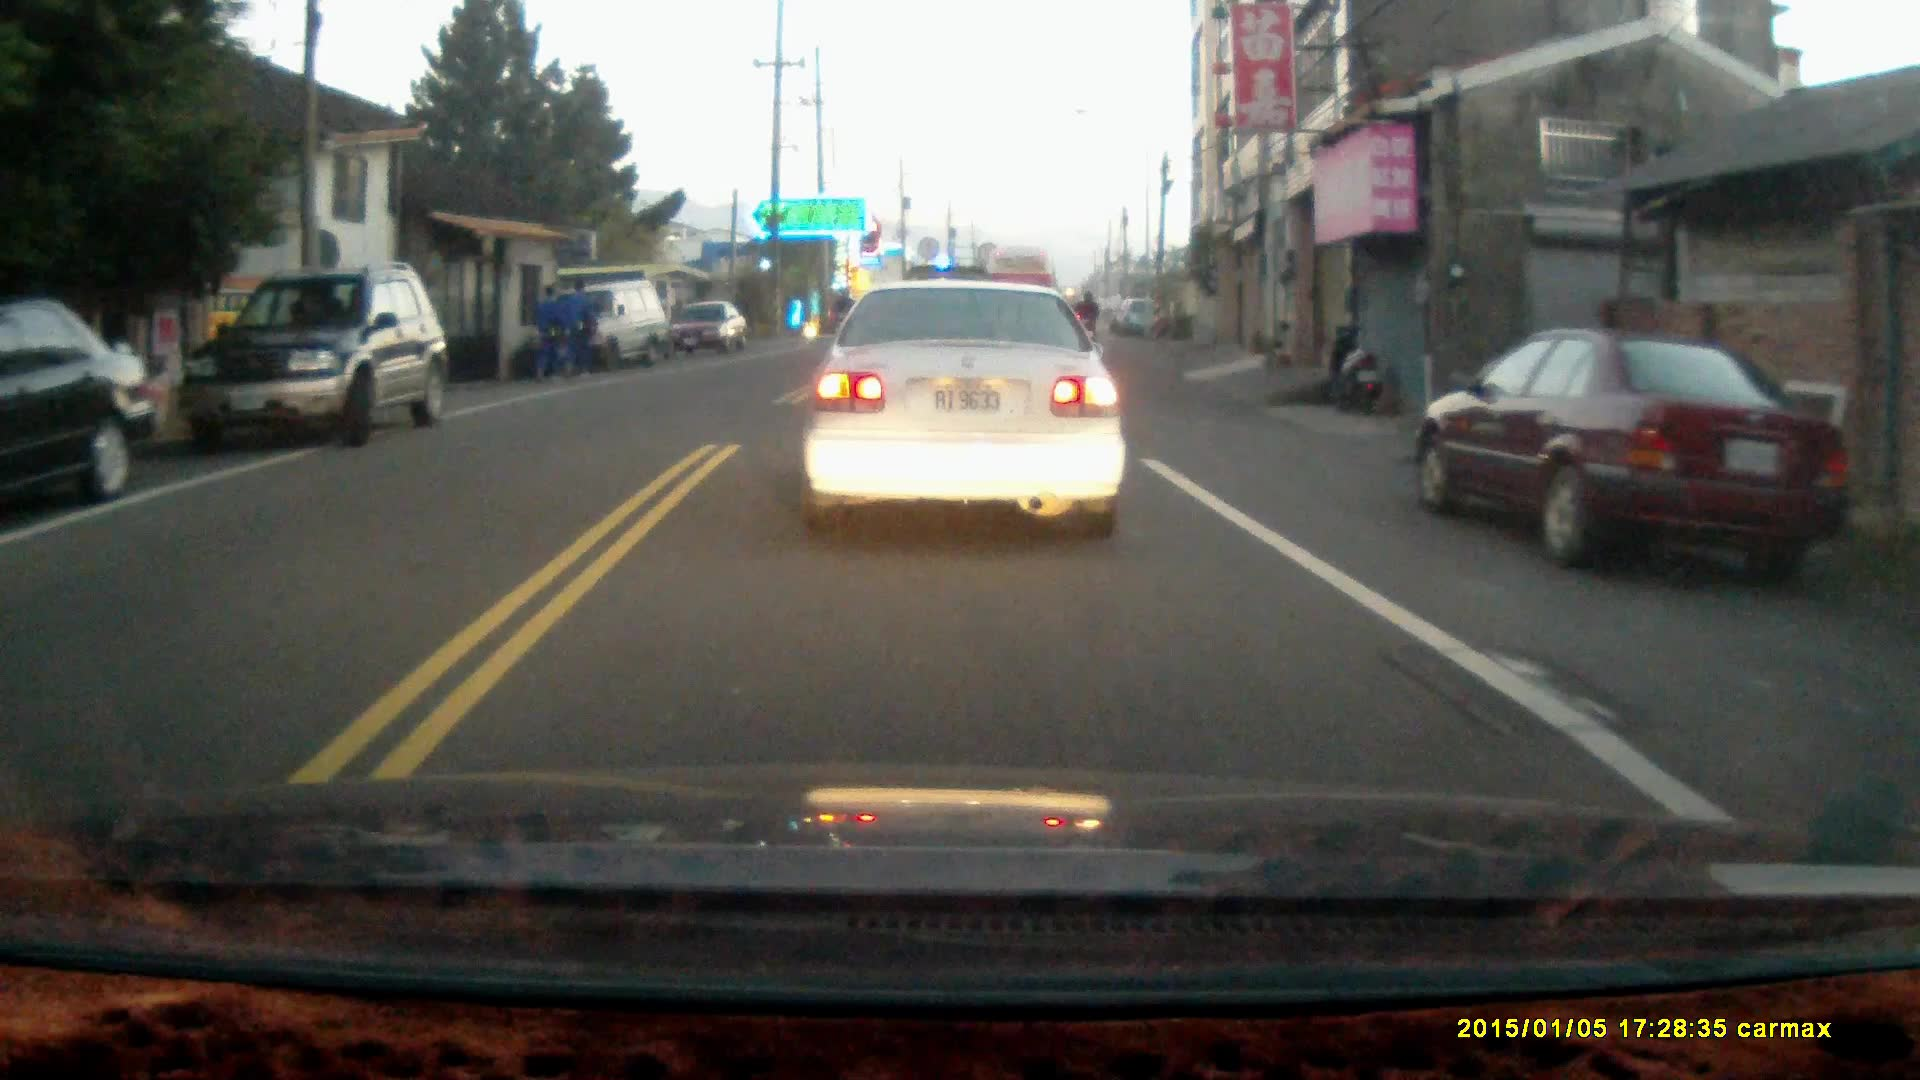pedestrian: (526, 281, 561, 384), (562, 273, 594, 380)
vehicle: (1407, 329, 1840, 577), (802, 278, 1132, 544), (185, 266, 444, 449), (1, 298, 160, 523), (554, 281, 683, 371), (663, 303, 750, 361)
